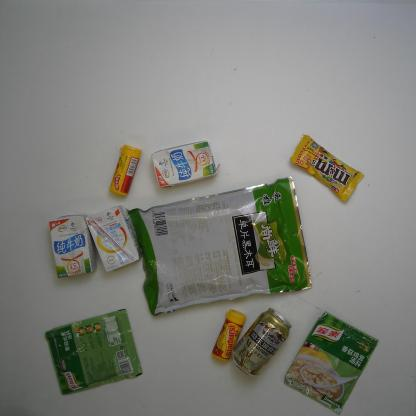Alcohol: (231, 308, 292, 377)
Candy: (212, 309, 246, 362), (110, 145, 141, 197)
Chocolate: (289, 133, 365, 204)
Dried Food: (126, 176, 312, 317)
Milk: (85, 206, 142, 272), (151, 140, 220, 188), (49, 213, 96, 278)
Seasoner: (282, 309, 382, 415), (44, 309, 143, 395)
